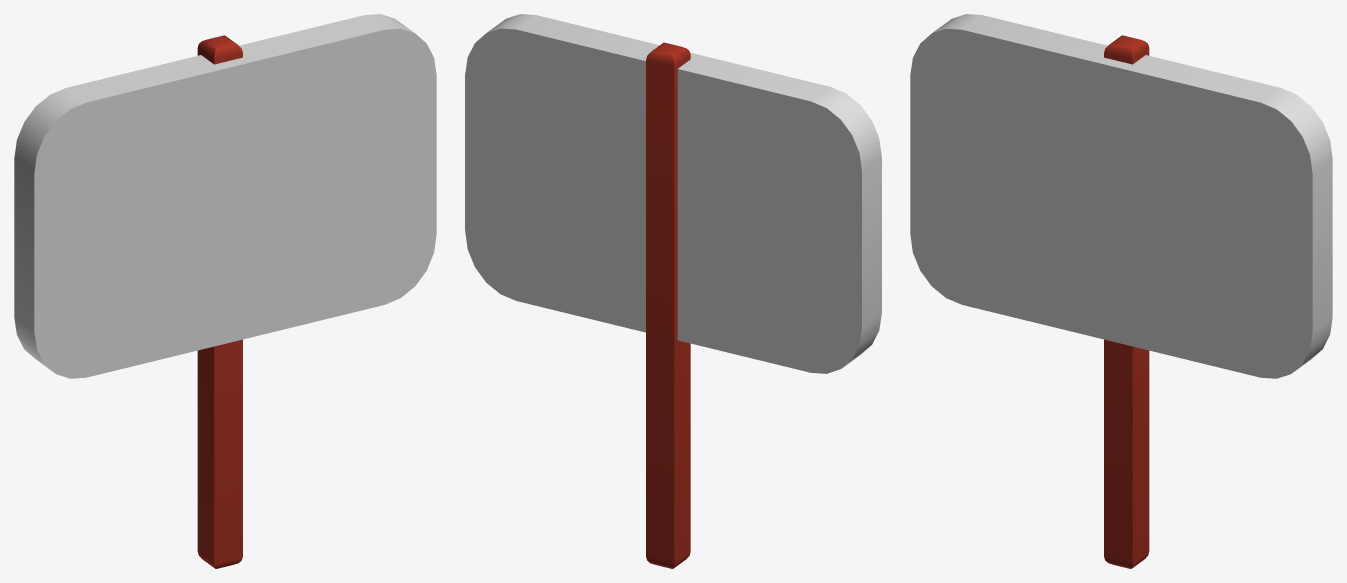
Rendered from pankart.fbx.
3 renders of one model, left to right at view 1: azimuth 30°, elevation 25°; view 2: azimuth 150°, elevation 25°; view 3: azimuth 330°, elevation 25°, orthographic.
Visible parts, largest first — view 1: pankart, cubuk; view 2: pankart, cubuk; view 3: pankart, cubuk.
Boxes of the visible parts, x1,y1,x2,y2 form: pankart: (14,14,436,378); cubuk: (197,35,242,568); pankart: (465,14,881,373); cubuk: (646,42,690,568); pankart: (910,14,1332,378); cubuk: (1104,35,1149,568).
Size of the model in its own units: 328 by 408 by 33.19.
